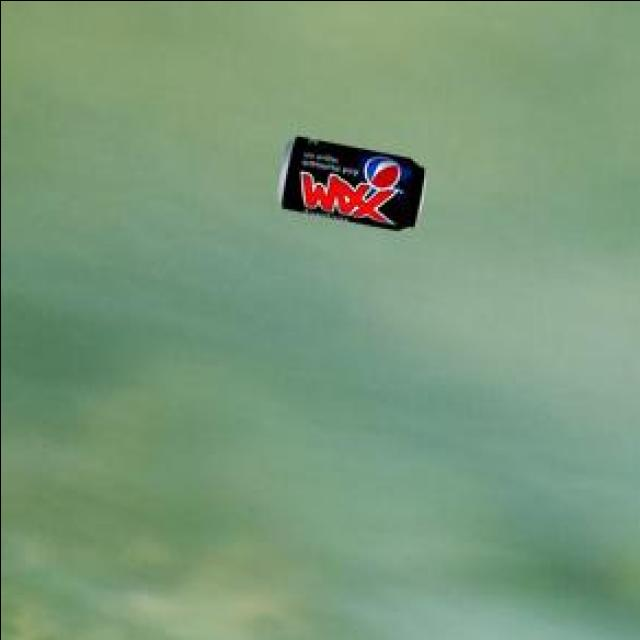logam: (273, 139, 422, 233)
